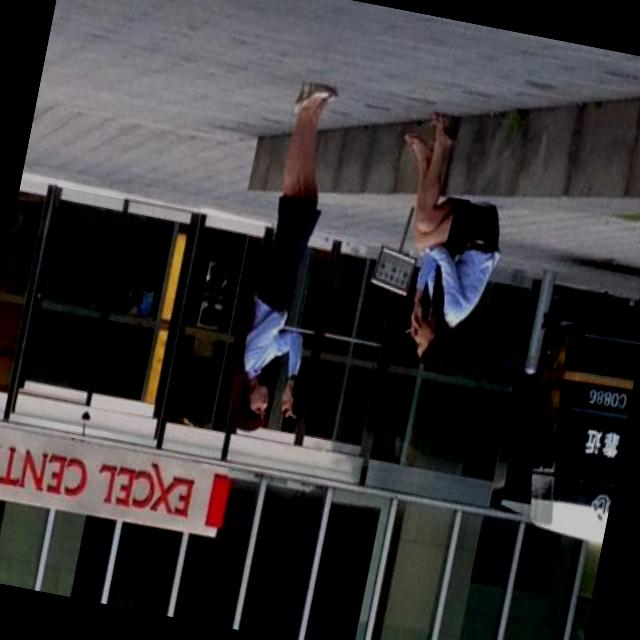cigarette: (284, 407, 298, 421)
